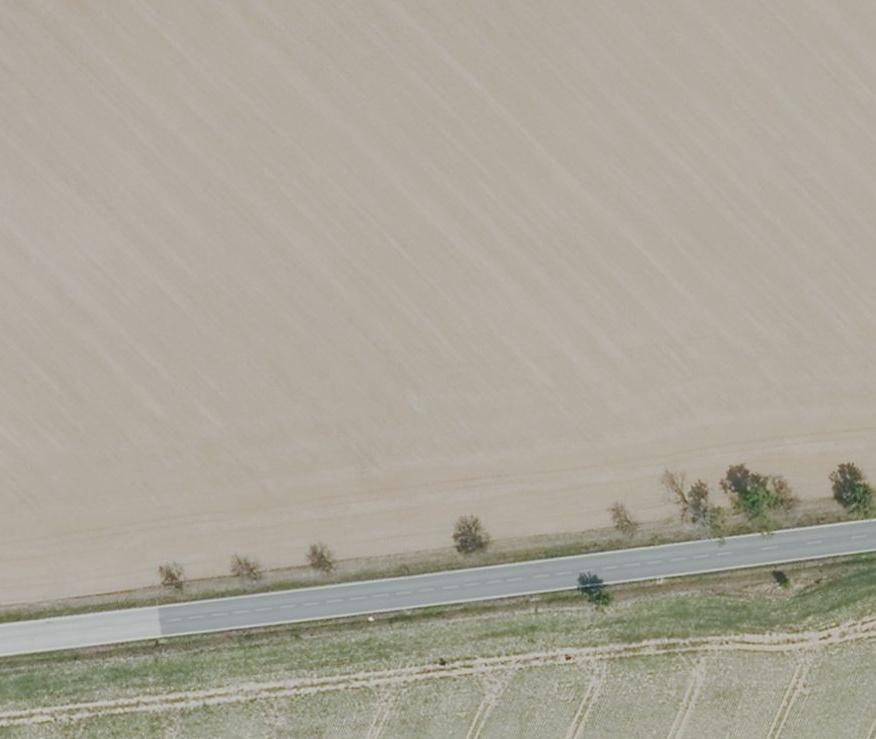field: (0, 3, 876, 603), (0, 554, 876, 737)
